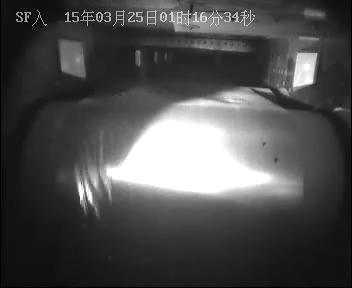wrinkled steel: (69, 128, 119, 223)
